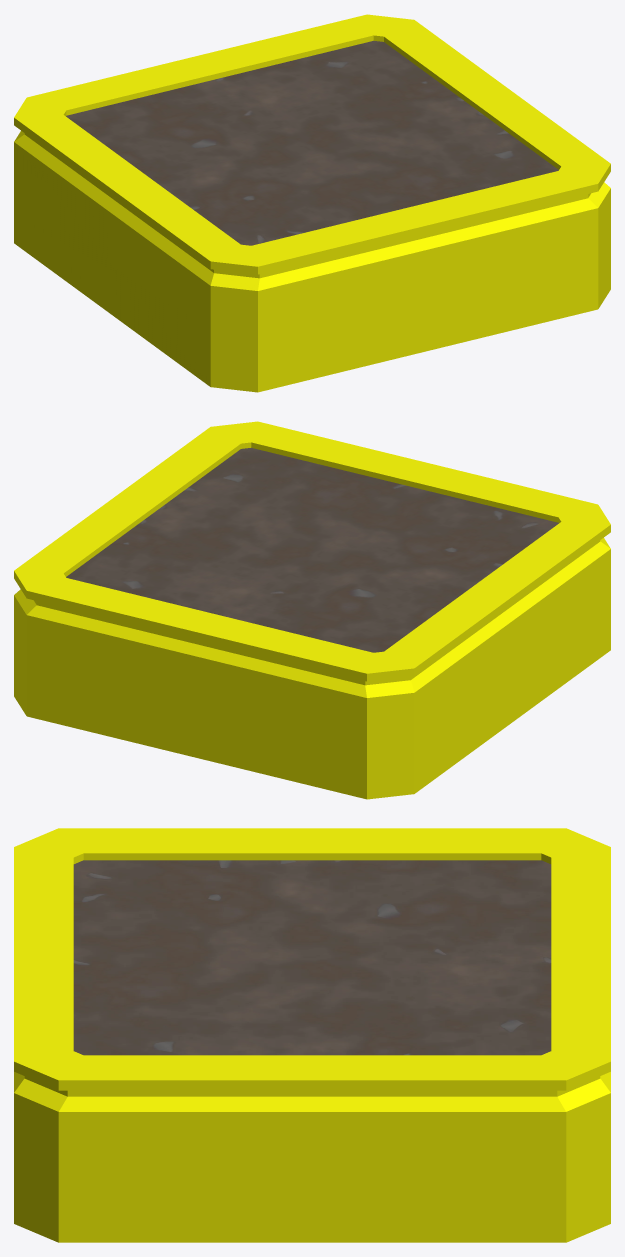
The model's file is prop-planter-single.glb.
3 renders of one model, top to bottom at view 1: azimuth 30°, elevation 25°; view 2: azimuth 150°, elevation 25°; view 3: azimuth 270°, elevation 25°, orthographic. The views are drawn at different scales.
Visible parts, largest first — view 1: Prop_Planter_Single; view 2: Prop_Planter_Single; view 3: Prop_Planter_Single.
Part boxes in pixels (x1,y1,x2,y2): Prop_Planter_Single: (14,14,610,392); Prop_Planter_Single: (14,421,610,799); Prop_Planter_Single: (14,828,610,1242).
Bounding box in the file's own units: 2 × 0.6 × 2.
2 materials, 1 textured.
